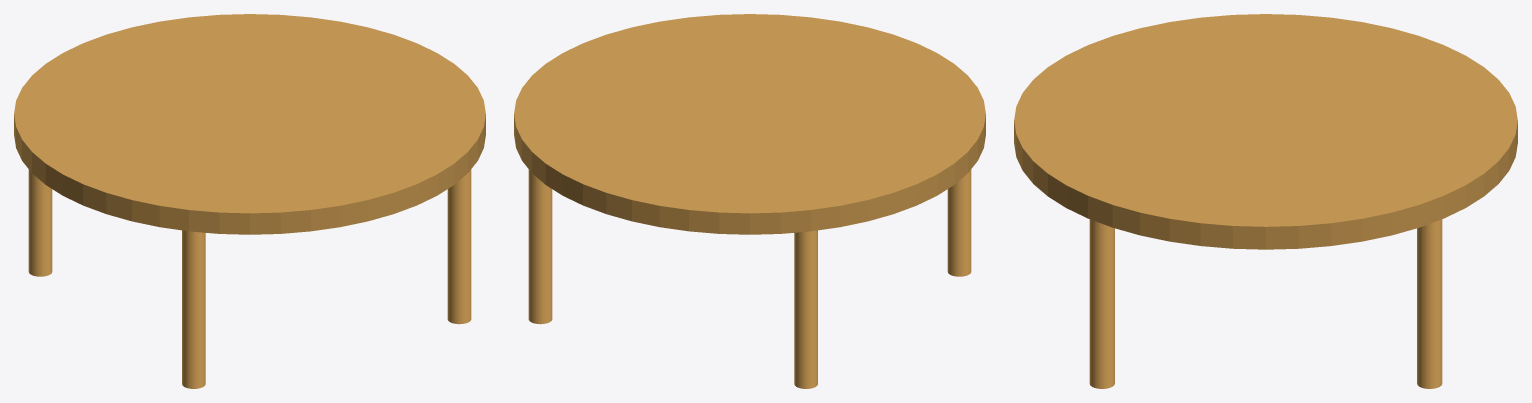
Rendered from Circular Table.glb.
The picture shows the model from 3 angles, left to right: view 1: azimuth 30°, elevation 25°; view 2: azimuth 150°, elevation 25°; view 3: azimuth 270°, elevation 25°; orthographic projection. The views are drawn at different scales.
Visible parts, largest first — view 1: Table Top, Table Leg 4, Table Leg 2, Table Leg 1; view 2: Table Top, Table Leg 1, Table Leg 3, Table Leg 4; view 3: Table Top, Table Leg 2, Table Leg 3.
Boxes of the visible parts, x1,y1,x2,y2 form: Table Top: (14,14,485,234); Table Leg 4: (182,230,205,388); Table Leg 2: (447,169,471,324); Table Leg 1: (28,169,52,276); Table Top: (514,14,985,234); Table Leg 1: (794,230,817,388); Table Leg 3: (528,169,552,324); Table Leg 4: (947,169,971,276); Table Top: (1014,14,1517,249); Table Leg 2: (1089,219,1114,388); Table Leg 3: (1417,219,1442,388).
Size of the model in its own units: 127 by 53.98 by 127.
